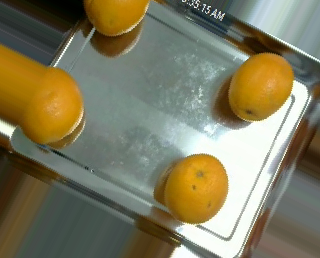Orange: (162, 152, 229, 224), (228, 51, 293, 122)
